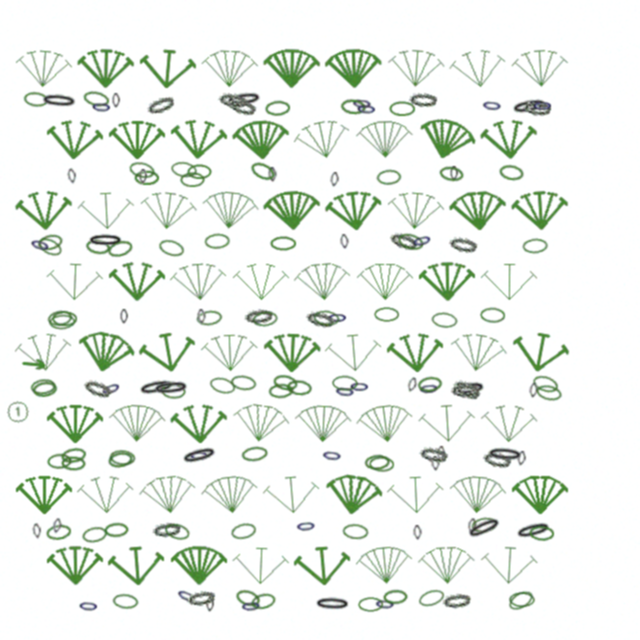chain: (465, 514, 504, 542), (180, 444, 219, 467), (514, 519, 553, 542), (510, 96, 549, 117), (137, 377, 176, 398), (506, 587, 536, 613), (451, 377, 482, 402), (449, 379, 487, 399), (145, 93, 176, 117), (225, 90, 263, 109), (82, 377, 113, 400), (248, 159, 277, 183), (35, 235, 64, 259), (40, 92, 78, 110), (152, 379, 190, 397), (388, 230, 419, 252), (486, 446, 524, 463), (157, 237, 186, 259), (531, 373, 560, 395), (417, 587, 446, 609), (227, 96, 257, 117), (234, 587, 262, 609), (396, 231, 425, 252), (208, 375, 237, 396), (305, 309, 335, 329), (186, 588, 216, 608), (314, 596, 351, 612), (106, 238, 134, 259), (163, 521, 191, 542), (448, 235, 478, 254), (482, 450, 512, 469), (82, 89, 110, 109), (128, 160, 156, 180), (535, 383, 563, 403), (87, 233, 124, 248), (419, 445, 448, 464), (152, 520, 181, 539), (442, 591, 471, 610), (174, 585, 199, 607), (37, 232, 64, 252), (230, 521, 257, 541), (250, 591, 277, 611), (170, 160, 198, 179), (218, 91, 247, 109), (244, 307, 273, 325), (498, 163, 525, 182), (272, 373, 299, 392), (60, 446, 87, 465), (107, 450, 134, 469), (81, 525, 108, 544), (99, 378, 123, 399), (438, 165, 465, 183), (196, 309, 223, 327), (313, 309, 340, 327), (431, 311, 458, 329), (230, 374, 257, 392), (241, 445, 268, 463), (45, 523, 72, 541), (471, 516, 498, 534), (28, 235, 52, 255), (85, 238, 111, 256), (47, 309, 73, 327), (252, 310, 278, 328), (32, 380, 58, 398), (417, 375, 443, 393), (109, 449, 136, 466), (342, 523, 369, 540), (112, 593, 139, 610), (410, 231, 434, 250), (523, 100, 551, 116), (451, 382, 479, 398), (23, 91, 49, 108), (340, 98, 366, 115), (30, 378, 56, 395), (286, 379, 312, 396), (409, 92, 437, 107), (376, 169, 402, 185), (204, 233, 230, 249), (522, 238, 548, 254), (49, 314, 75, 330), (268, 383, 294, 399), (332, 375, 358, 391), (364, 454, 390, 470), (265, 100, 290, 116), (480, 307, 505, 323), (161, 383, 186, 399), (47, 453, 72, 469), (369, 456, 394, 472), (104, 522, 129, 538), (529, 525, 554, 541), (383, 589, 408, 605), (389, 101, 415, 116), (270, 236, 296, 251), (509, 592, 535, 607), (134, 170, 159, 185), (180, 172, 205, 187), (187, 164, 212, 179), (52, 311, 77, 326), (374, 307, 399, 322), (61, 456, 86, 471), (358, 597, 383, 612), (351, 95, 373, 112), (481, 97, 503, 114), (334, 383, 356, 400), (418, 380, 440, 397), (321, 447, 343, 464), (295, 518, 317, 534), (240, 598, 262, 614), (374, 596, 396, 612), (91, 99, 112, 115), (356, 101, 377, 117), (78, 598, 99, 614), (532, 98, 553, 113), (327, 310, 348, 325), (349, 379, 370, 394), (189, 448, 210, 463), (406, 377, 418, 393), (67, 168, 77, 184), (52, 518, 62, 534), (32, 523, 42, 539), (467, 518, 477, 534), (268, 167, 277, 182), (330, 172, 339, 187), (340, 234, 349, 249), (197, 309, 206, 324), (529, 383, 538, 398), (431, 456, 440, 471), (517, 451, 526, 466), (413, 525, 422, 540), (112, 93, 120, 108), (139, 169, 147, 184), (450, 166, 458, 181), (120, 309, 128, 324), (437, 446, 445, 461), (206, 597, 214, 612)
fan: (414, 112, 479, 167), (74, 326, 137, 379), (291, 114, 354, 166), (137, 327, 199, 378), (509, 327, 571, 378), (447, 328, 509, 378), (323, 470, 384, 520), (230, 399, 291, 448), (448, 45, 508, 93), (138, 187, 198, 235), (324, 187, 384, 235), (355, 400, 415, 448), (138, 471, 198, 519), (200, 471, 260, 519), (200, 187, 260, 234), (169, 116, 228, 163), (14, 329, 73, 376), (355, 542, 414, 589), (14, 46, 73, 92), (138, 46, 197, 92), (45, 117, 104, 163), (386, 188, 445, 234), (169, 259, 228, 305), (293, 259, 352, 305), (324, 330, 383, 376), (386, 330, 445, 376), (262, 472, 321, 518), (448, 472, 507, 518), (107, 543, 166, 589), (293, 543, 352, 589), (232, 117, 290, 163), (449, 188, 507, 234), (387, 46, 445, 91), (511, 46, 569, 91), (480, 117, 538, 162), (15, 188, 73, 233), (263, 188, 321, 233), (511, 188, 569, 233), (108, 401, 166, 446), (418, 401, 476, 446), (480, 543, 538, 588), (77, 189, 135, 233), (263, 331, 321, 375), (170, 402, 228, 446), (294, 402, 352, 446), (480, 402, 538, 446), (201, 47, 258, 91), (46, 260, 103, 304), (201, 331, 258, 375), (77, 473, 134, 517), (387, 473, 444, 517), (232, 544, 289, 588), (77, 47, 134, 90), (263, 47, 320, 90), (325, 47, 382, 90), (356, 118, 413, 161), (418, 544, 475, 587), (109, 260, 165, 303), (419, 260, 475, 303), (47, 544, 103, 587), (171, 544, 227, 587), (109, 119, 165, 161), (233, 261, 289, 303), (357, 261, 413, 303), (481, 261, 537, 303), (47, 403, 103, 445), (16, 474, 72, 516), (512, 474, 568, 516)
noise: (5, 399, 30, 424), (21, 358, 47, 370)
